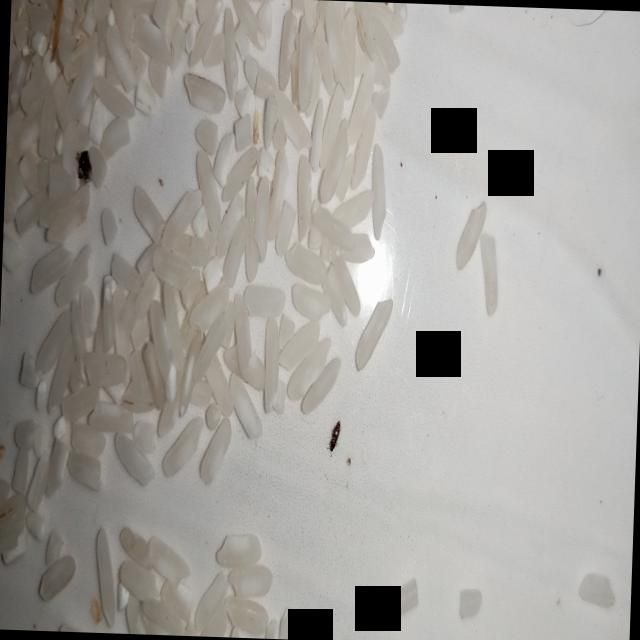Bulir_padi: (46, 0, 66, 75)
Kerikil: (68, 136, 96, 197)
Kutu_beras: (325, 402, 343, 465)
